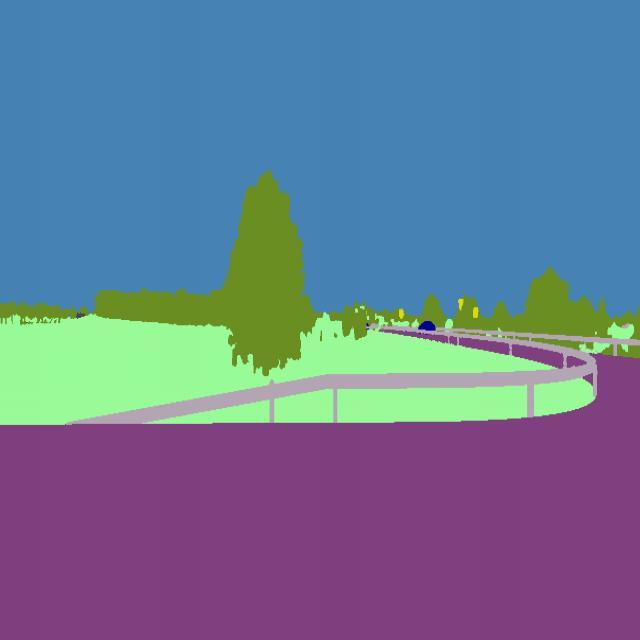safe: (416, 316, 439, 337)
